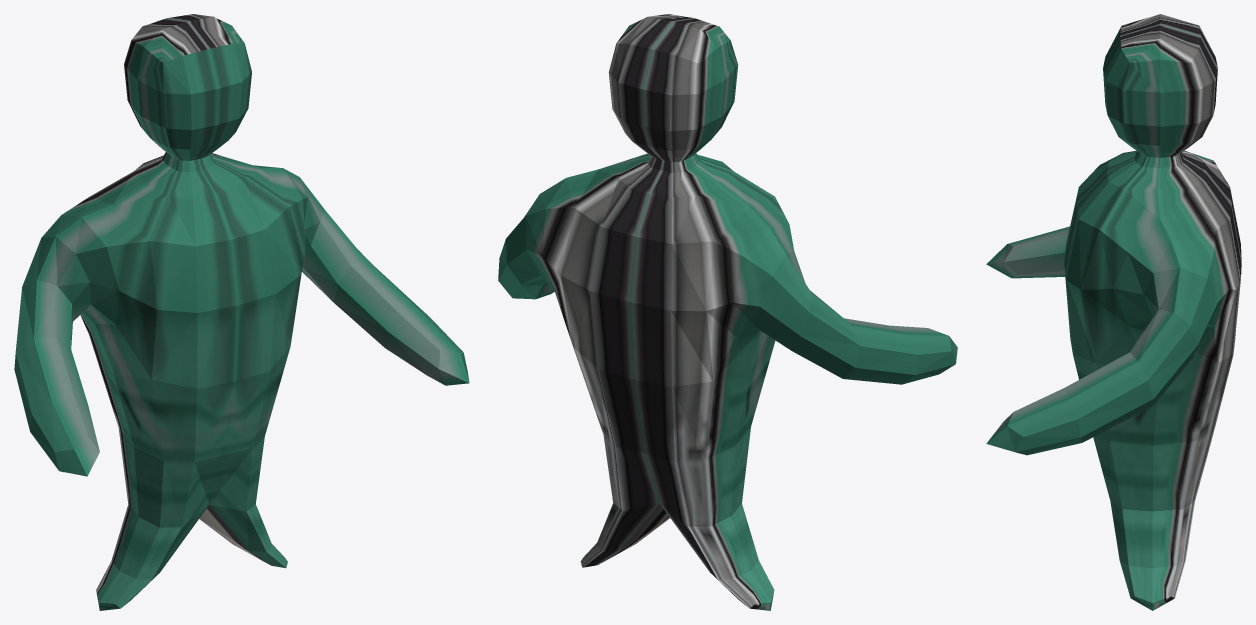
File: worm.obj
3 views of the same model, side by side, from view 1: azimuth 30°, elevation 25°; view 2: azimuth 150°, elevation 25°; view 3: azimuth 270°, elevation 25° (orthographic). The views are drawn at different scales.
Parts seen in each view (by area): view 1: Cube; view 2: Cube; view 3: Cube.
Part boxes in pixels (<box>): Cube: <box>14,14,469,610</box>; Cube: <box>498,14,957,610</box>; Cube: <box>986,14,1241,610</box>.
Size of the model in its own units: 1.88 by 2.48 by 1.06.
